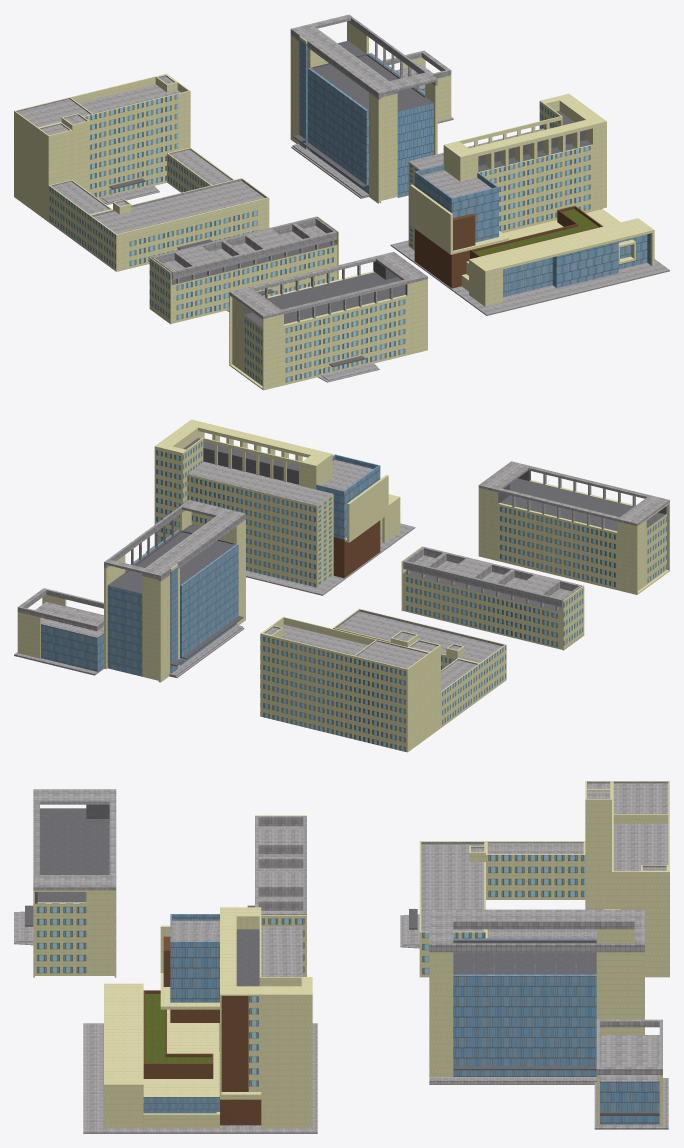
File: building3.gltf
3 renders of one model, top to bottom at view 1: azimuth 30°, elevation 25°; view 2: azimuth 150°, elevation 25°; view 3: azimuth 270°, elevation 25°, orthographic. The views are drawn at different scales.
Parts seen in each view (by area): view 1: jianzhu2; view 2: jianzhu2; view 3: jianzhu2.
Part boxes in pixels (x1,y1,x2,y2): jianzhu2: (14,14,669,390); jianzhu2: (14,419,669,752); jianzhu2: (14,781,669,1133).
Bounding box in the file's own units: 182 × 45 × 198.
7 materials, 7 textured.
